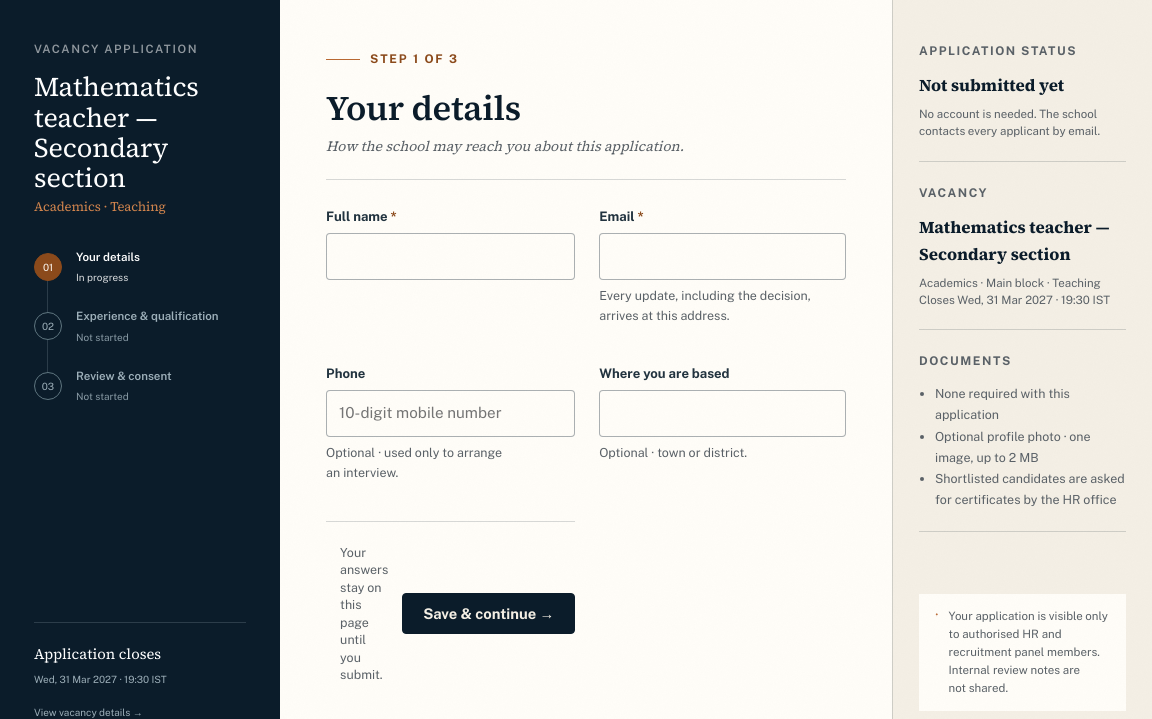
Test: Supabase applicant storage boundary › never autosaves an account-bound draft as the public applicant types
Type "Public Candidate" into the field labelled "Full name *" at (451, 256), box [326,233,575,280]
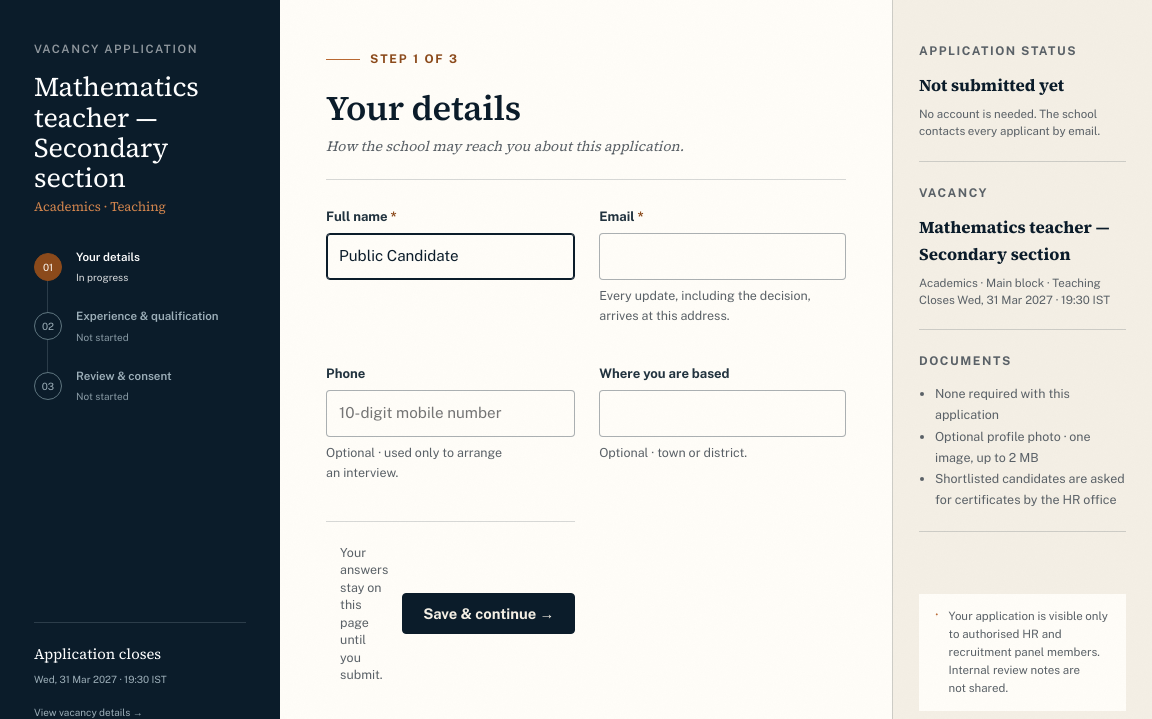
Type "candidate@example.test" into the field labelled "Email *" at (723, 256), box [599,233,846,280]
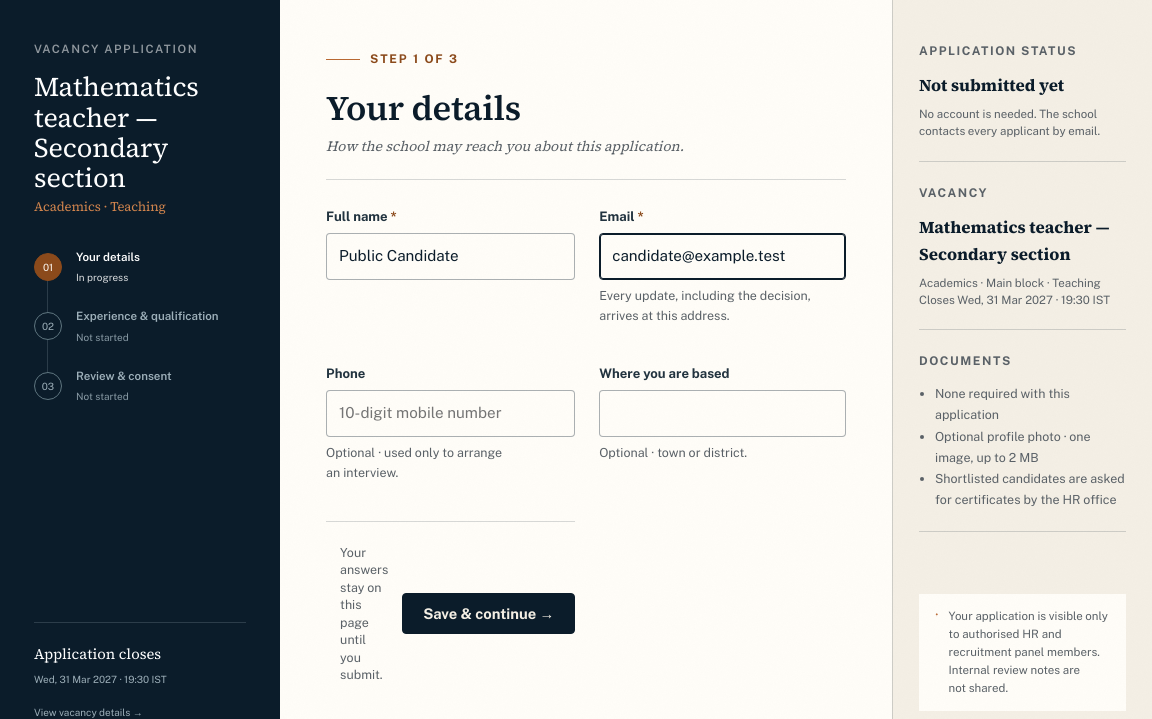
Click the button "Save & continue →" at (489, 614), box [402,593,575,634]
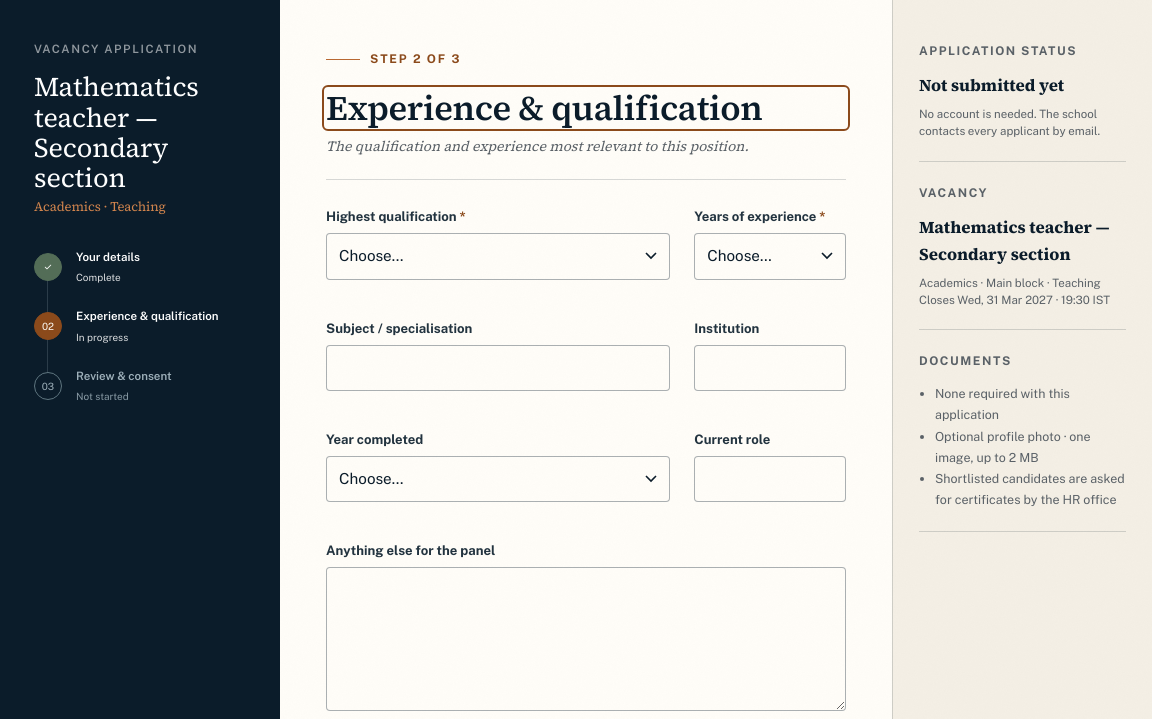
Check: the heading "Experience & qualification" is shown, box [326,84,763,132]
